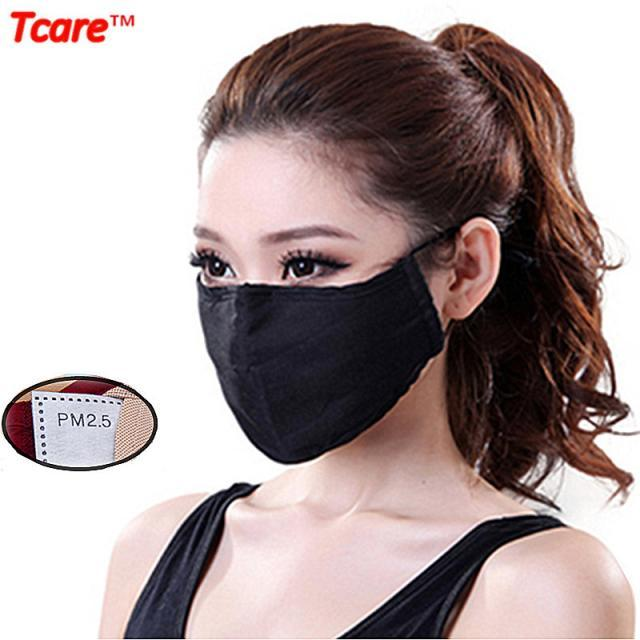1_mascarilla: (191, 277, 467, 465)
